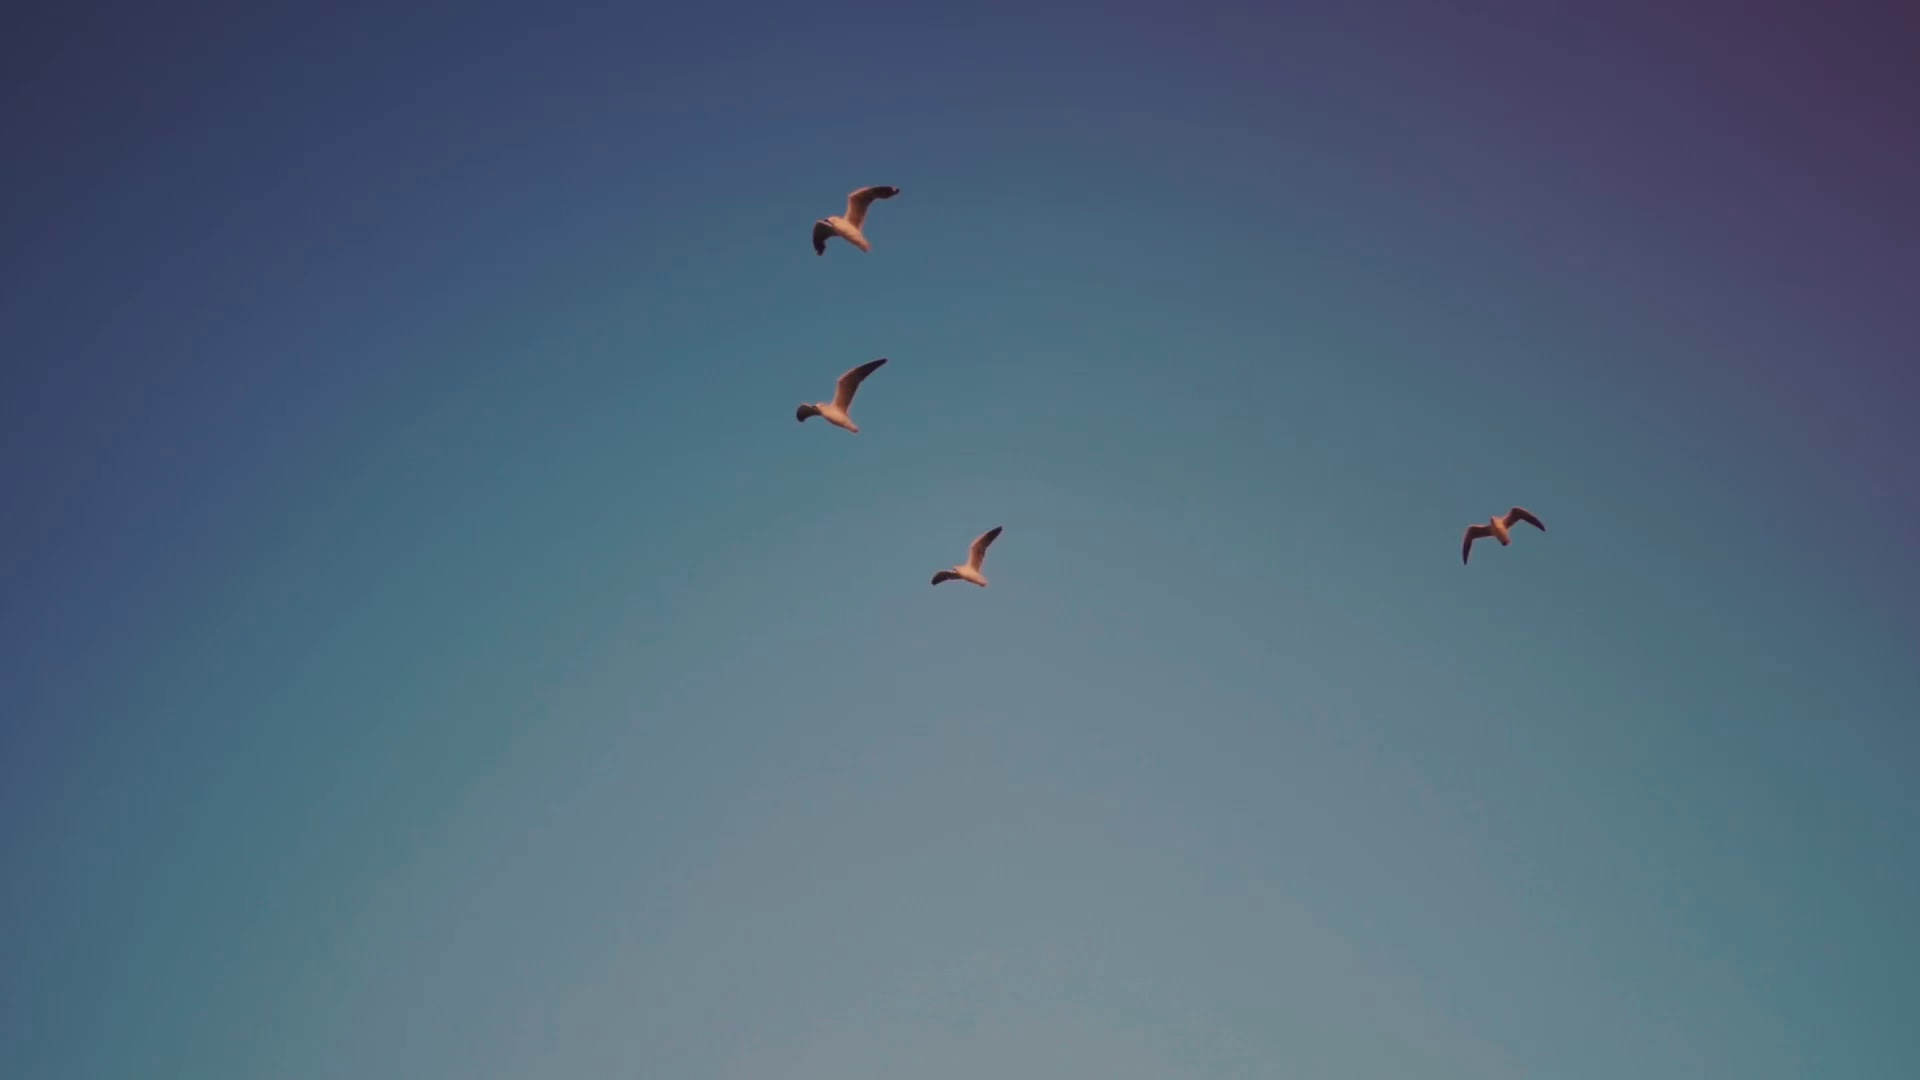bird: (793, 360, 886, 433), (814, 185, 898, 258), (928, 518, 1004, 589), (1462, 502, 1545, 564)
